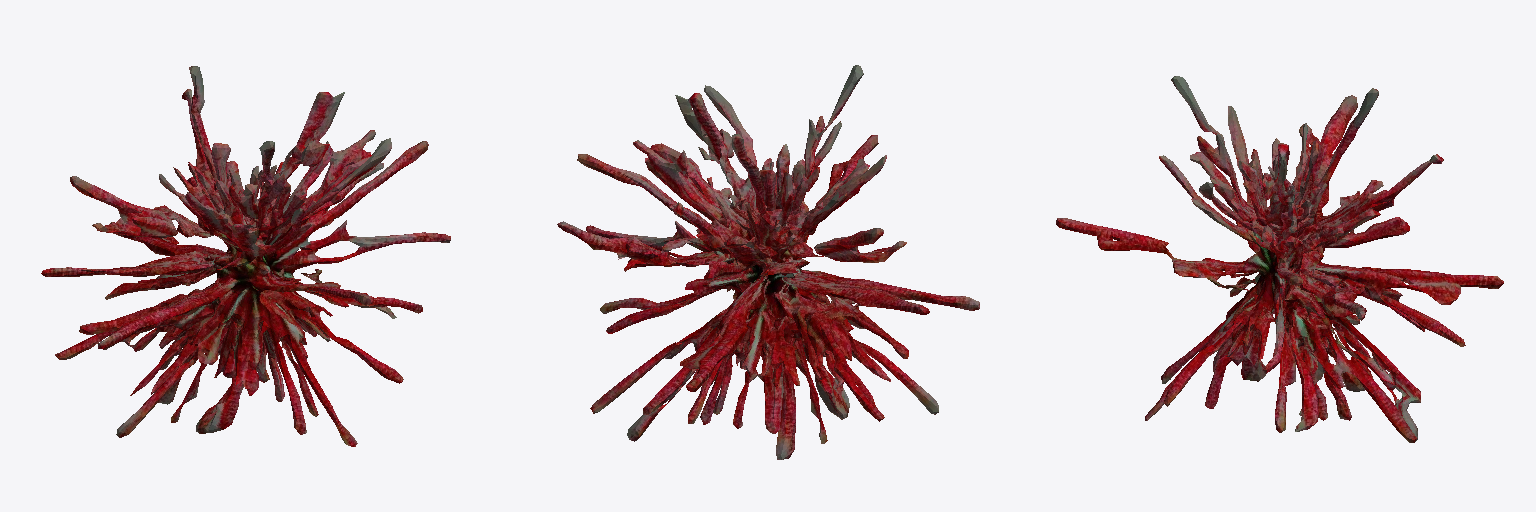
3 renders of one model, left to right at view 1: azimuth 30°, elevation 25°; view 2: azimuth 150°, elevation 25°; view 3: azimuth 270°, elevation 25°, orthographic.
Parts seen in each view (by area): view 1: mesh; view 2: mesh; view 3: mesh.
Boxes of the visible parts, box(x1,y1,x2,y2) form: mesh: box(41, 66, 450, 446); mesh: box(557, 65, 979, 459); mesh: box(1056, 76, 1503, 442).
Size of the model in its own units: 0.9701 by 0.7979 by 1.
1 materials, 1 textured.